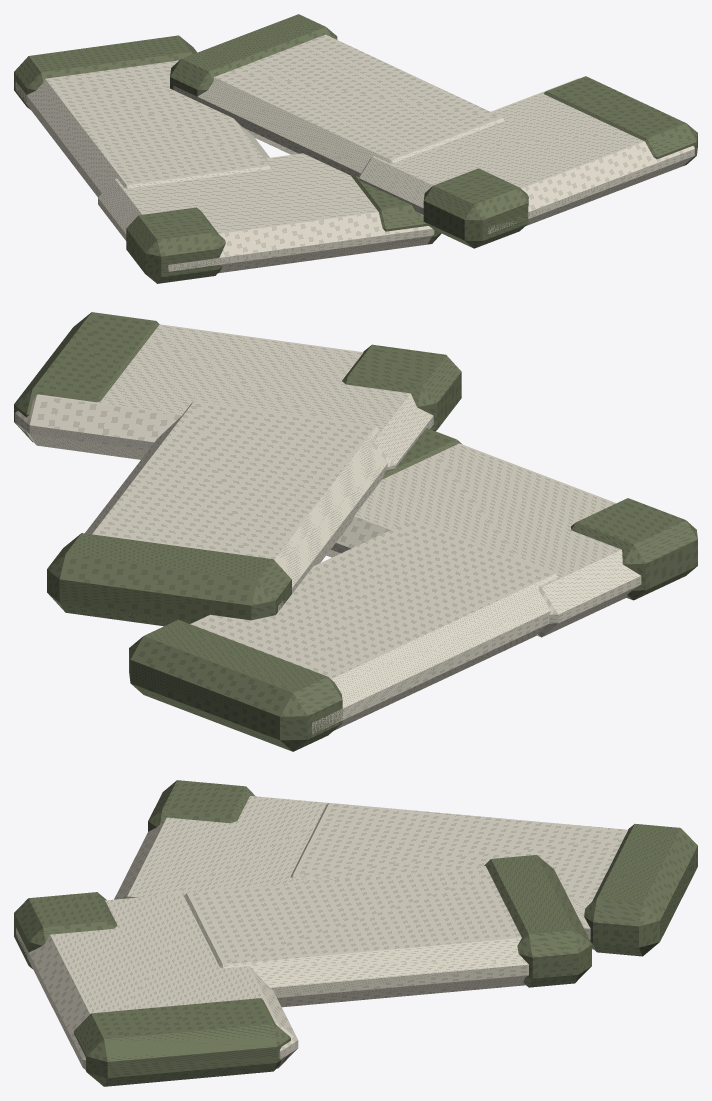
The model's file is xssocks.glb.
The picture shows the model from 3 angles, top to bottom: view 1: azimuth 30°, elevation 25°; view 2: azimuth 150°, elevation 25°; view 3: azimuth 270°, elevation 25°; orthographic projection. The views are drawn at different scales.
Visible parts, largest first — view 1: block_leg (×2), block_foot (×2), block_heel (×2), block_ribbed cuff (×2), block_toe (×2); view 2: block_leg (×2), block_foot (×2), block_ribbed cuff (×2), block_heel (×2), block_toe (×2); view 3: block_leg (×2), block_foot (×2), block_ribbed cuff (×2), block_toe, block_heel (×2).
Part boxes in pixels (x1,y1,x2,y2): block_leg (×2): (15, 34, 504, 196); block_foot (×2): (98, 78, 694, 273); block_heel (×2): (126, 168, 528, 283); block_ribbed cuff (×2): (14, 14, 337, 109); block_toe (×2): (351, 76, 697, 244); block_leg (×2): (85, 401, 558, 733); block_foot (×2): (15, 324, 641, 637); block_ribbed cuff (×2): (47, 533, 342, 751); block_heel (×2): (342, 344, 697, 600); block_toe (×2): (14, 312, 462, 479); block_leg (×2): (184, 803, 627, 1007); block_foot (×2): (16, 796, 328, 1069); block_ribbed cuff (×2): (484, 824, 697, 987); block_toe: (74, 998, 290, 1086); block_heel (×2): (14, 780, 255, 968).
Bounding box in the file's own units: 0.2055 × 0.0252 × 0.2024.
1 material, 1 textured.
